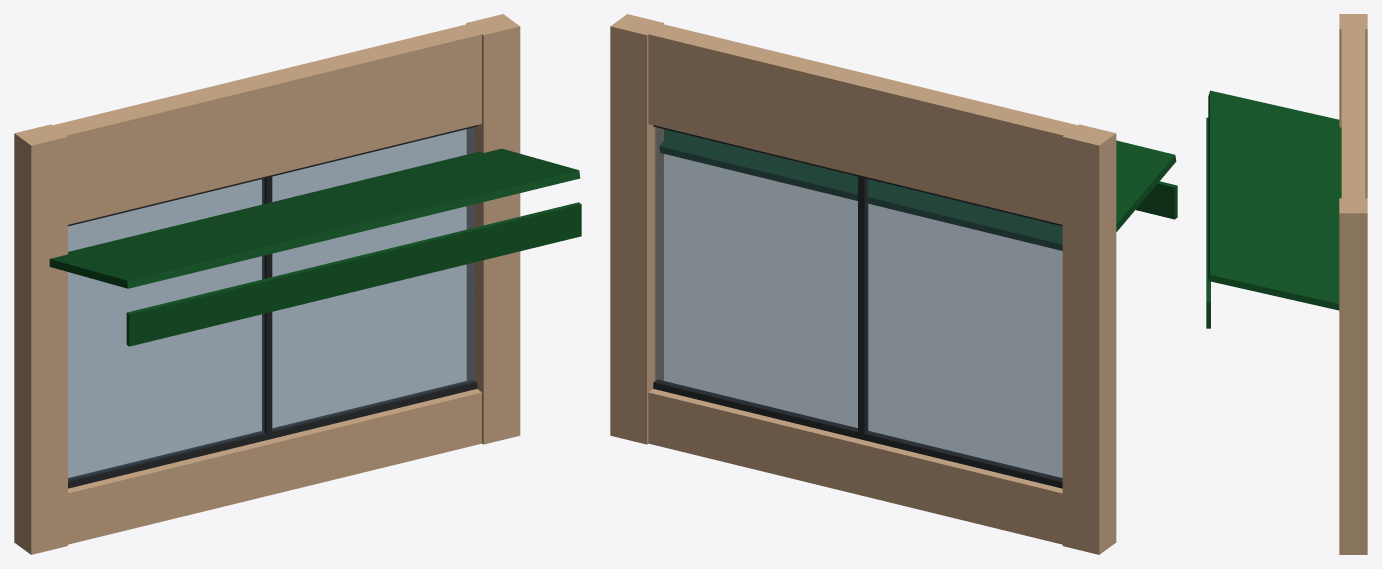
The model's file is KIT_Storefront_4m_Warm_FreshMartGreen.glb.
3 renders of one model, left to right at view 1: azimuth 30°, elevation 25°; view 2: azimuth 150°, elevation 25°; view 3: azimuth 270°, elevation 25°, orthographic. The views are drawn at different scales.
Parts seen in each view (by area): view 1: KIT_Storefront_4m_Warm_FreshMartGreen; view 2: KIT_Storefront_4m_Warm_FreshMartGreen; view 3: KIT_Storefront_4m_Warm_FreshMartGreen.
Boxes of the visible parts, <box> form: KIT_Storefront_4m_Warm_FreshMartGreen: <box>14,14,581,554</box>; KIT_Storefront_4m_Warm_FreshMartGreen: <box>610,14,1177,554</box>; KIT_Storefront_4m_Warm_FreshMartGreen: <box>1206,14,1367,554</box>.
Bounding box in the file's own units: 4 × 3.2 × 1.37.
